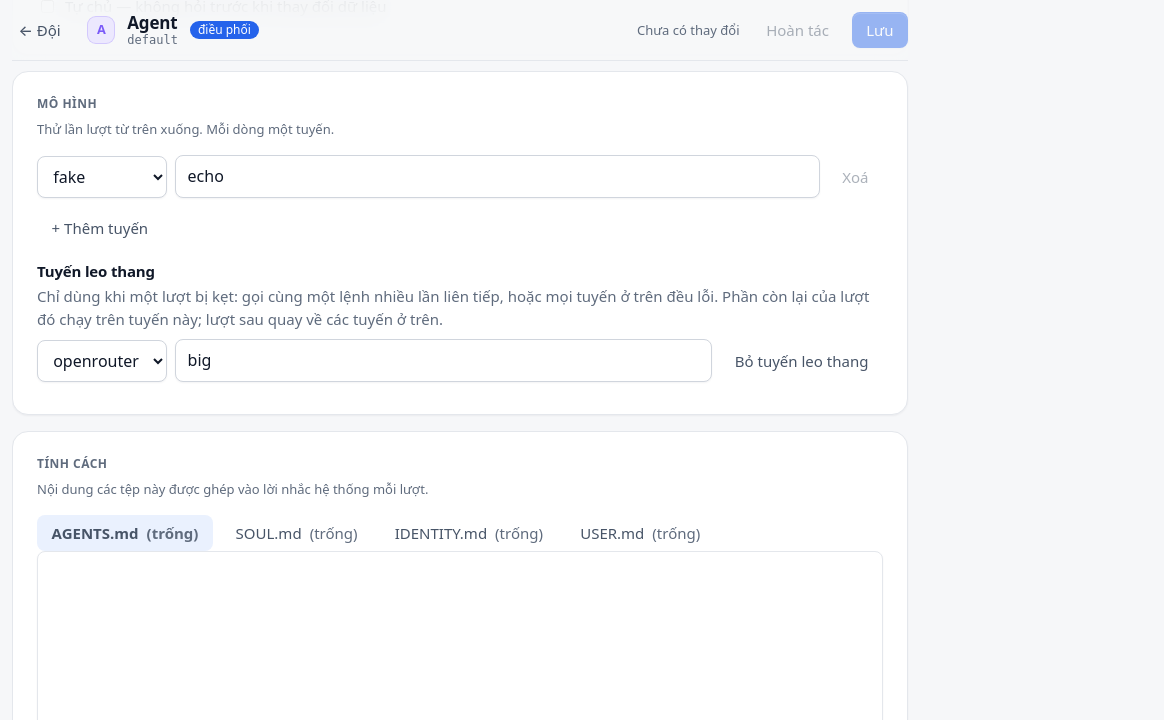
Test: the escalation route of an agent that names one › is cleared with null when it is taken away
(page scrolled)
Click the button "Bỏ tuyến leo thang". click: click(802, 361)
box: [720,343,883,379]
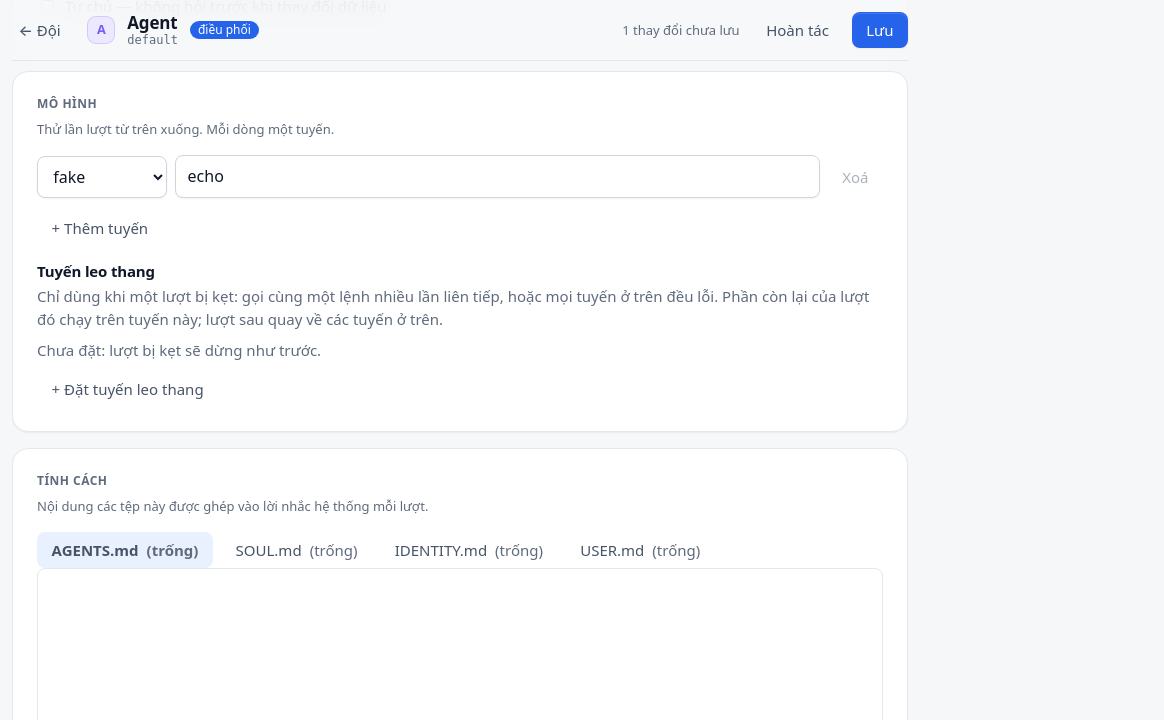
Result: the text "Chưa đặt: lượt bị kẹt sẽ dừng như trước." is shown at [37,340,321,360]
Click the button "Lưu". click: click(880, 30)
box: [852,12,908,48]
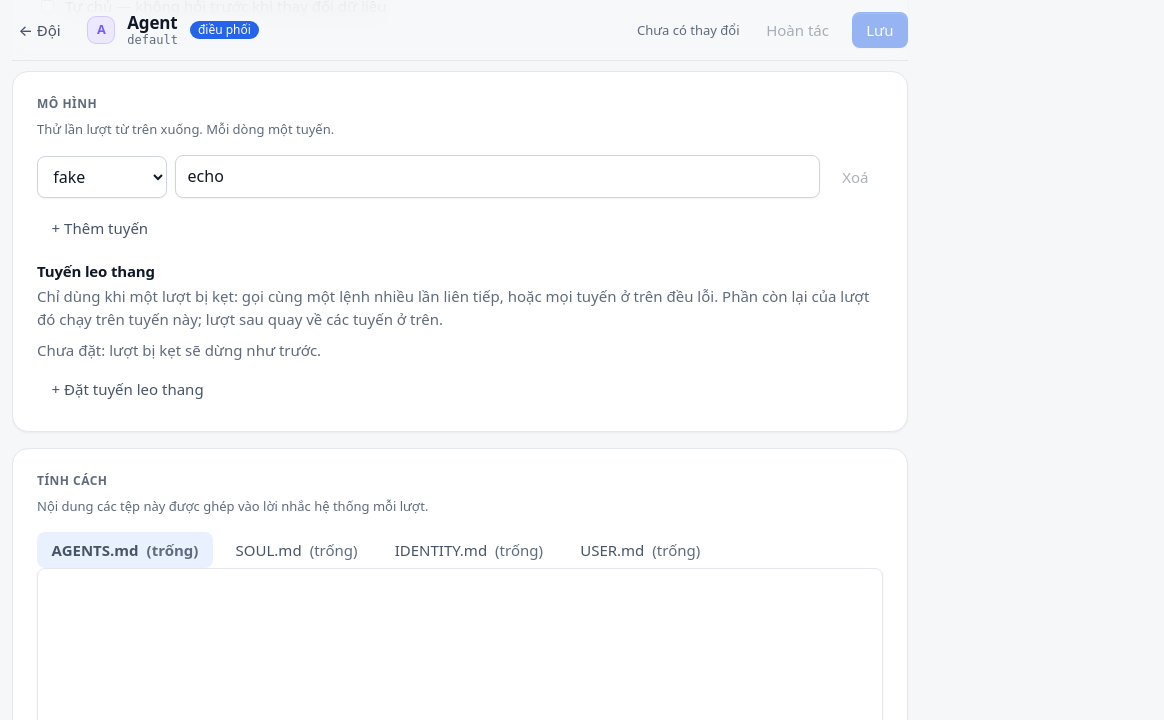
Result: the text "Chưa có thay đổi" is shown at [637,20,740,40]
